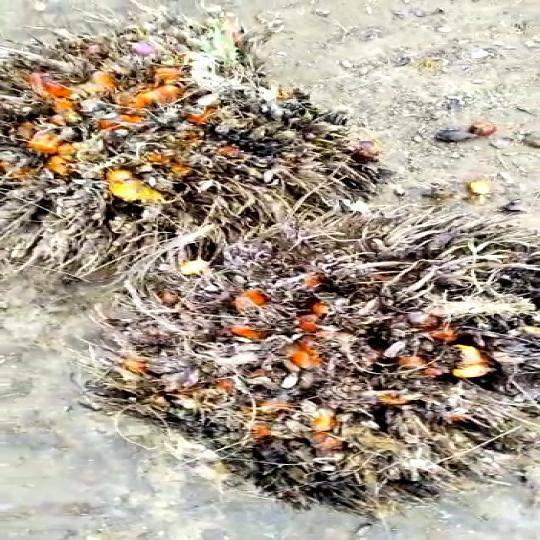terlalu masak: (84, 204, 540, 516), (0, 21, 396, 281)
